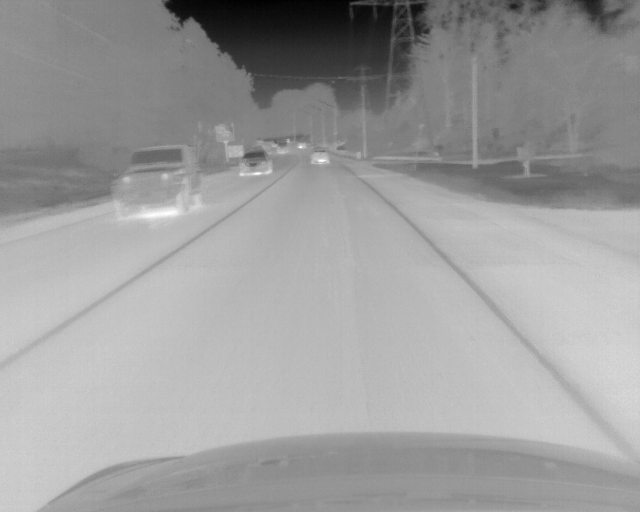car: (112, 145, 204, 217), (239, 150, 273, 177), (310, 149, 330, 166), (275, 144, 288, 157), (296, 141, 308, 150)
